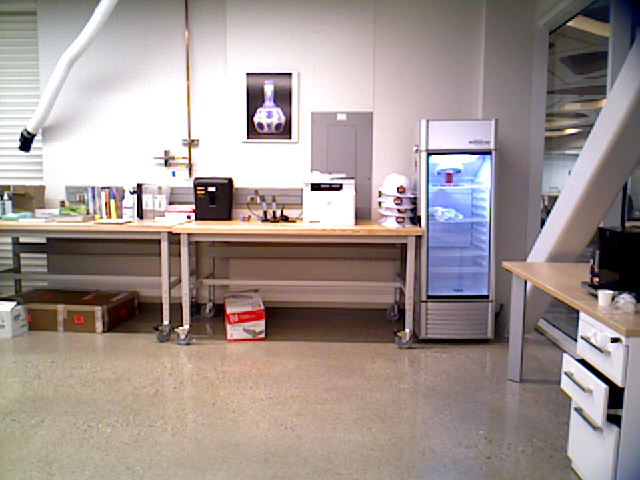painting2: (243, 70, 301, 145)
